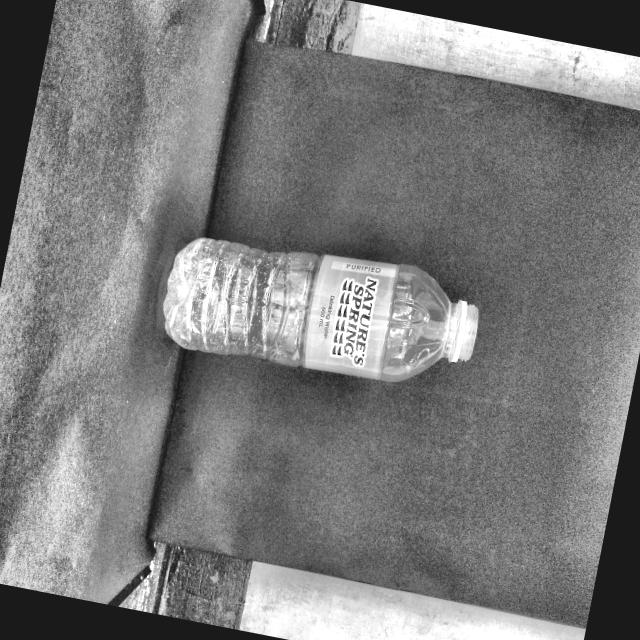Plastic-Bottle: (153, 217, 490, 405)
